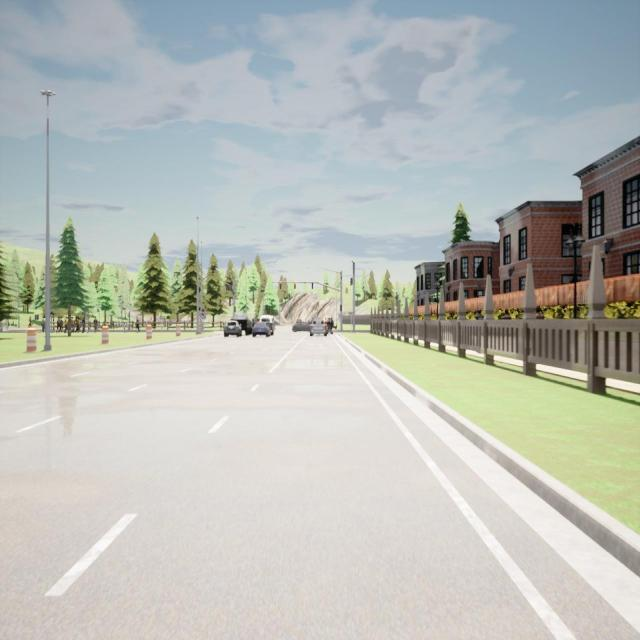Pedestrian: (56, 314, 63, 334), (328, 317, 334, 335), (81, 316, 86, 333), (135, 316, 140, 332), (93, 316, 98, 332), (64, 314, 68, 333), (71, 315, 75, 334), (76, 314, 80, 333), (87, 316, 91, 332), (28, 316, 32, 329), (122, 321, 126, 333)
Traffic_Signs: (200, 312, 206, 319), (35, 314, 39, 320)
Vehicle: (231, 314, 252, 336), (224, 320, 242, 338), (310, 319, 327, 337), (252, 322, 271, 338), (260, 314, 276, 331), (292, 320, 310, 333)
traffic_light: (350, 278, 353, 286), (294, 282, 296, 289), (312, 282, 314, 289), (226, 283, 228, 290), (340, 305, 342, 311), (234, 306, 236, 312), (230, 285, 232, 291), (280, 281, 281, 289), (228, 284, 229, 291)
